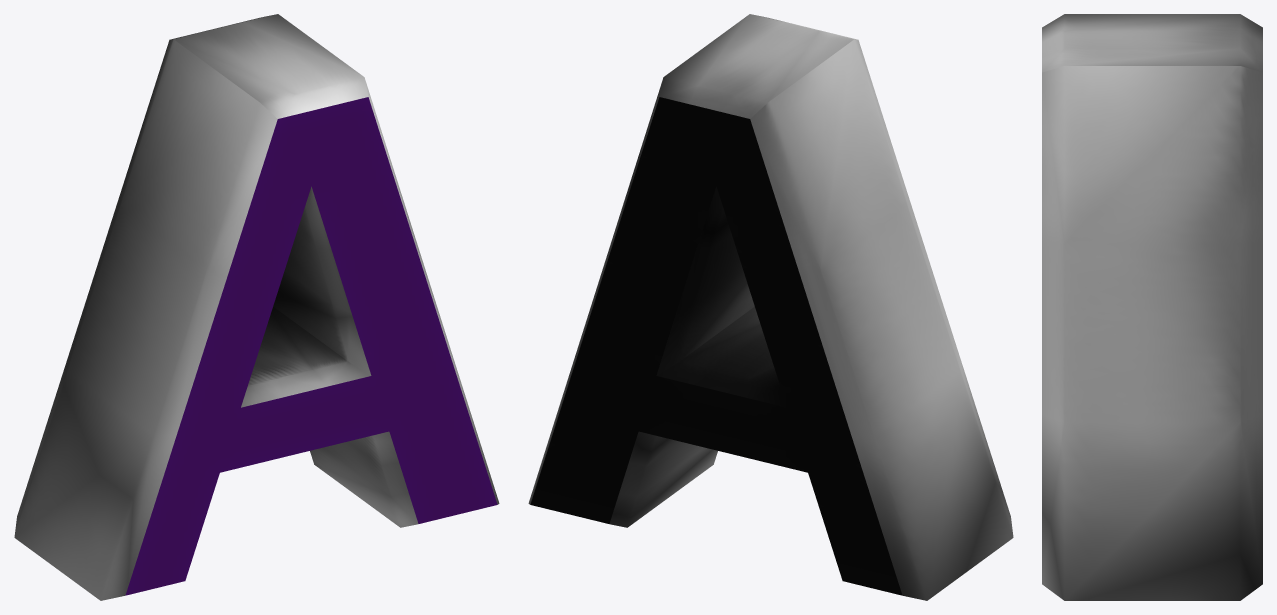
Rendered from FrameMarker_A_textured.fbx.
3 renders of one model, left to right at view 1: azimuth 30°, elevation 25°; view 2: azimuth 150°, elevation 25°; view 3: azimuth 270°, elevation 25°, orthographic.
Parts seen in each view (by area): view 1: Frm0; view 2: Frm0; view 3: Frm0.
Part boxes in pixels (x1,y1,x2,y2): Frm0: (14,14,499,600); Frm0: (528,14,1013,600); Frm0: (1042,14,1262,600).
Size of the model in its own units: 2.09 by 2.3 by 0.9831.
